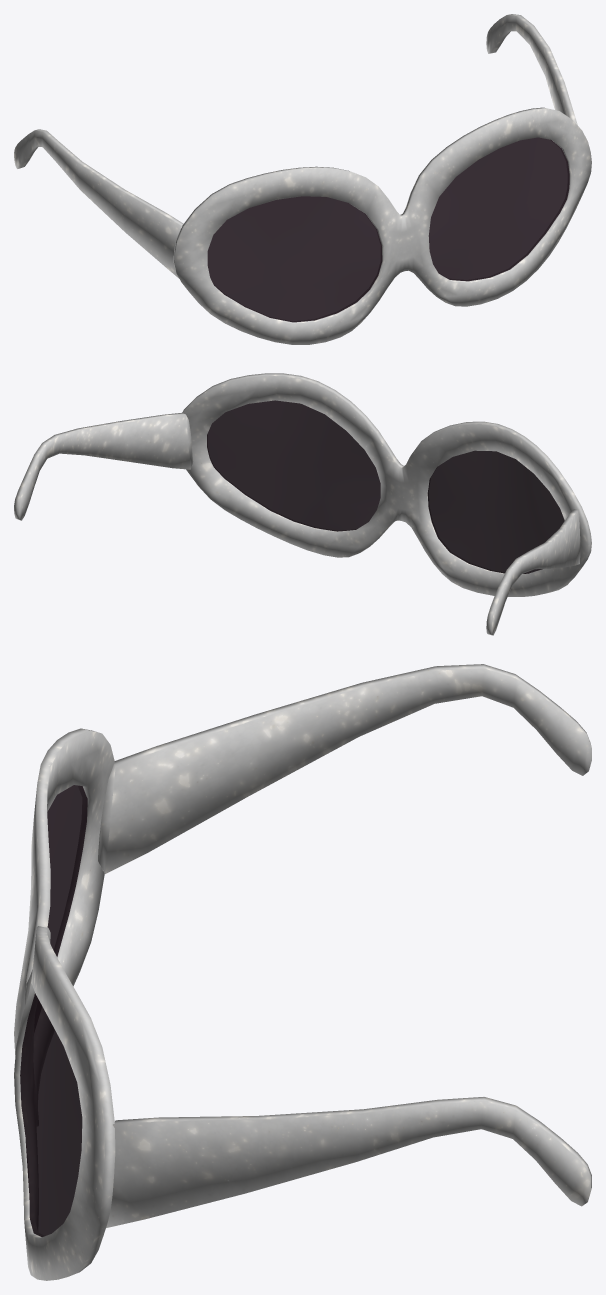
The model's file is Cobain.glb.
3 renders of one model, top to bottom at view 1: azimuth 30°, elevation 25°; view 2: azimuth 150°, elevation 25°; view 3: azimuth 270°, elevation 25°, orthographic. The views are drawn at different scales.
Visible parts, largest first — view 1: Cobain; view 2: Cobain; view 3: Cobain.
Part boxes in pixels (<box>): Cobain: <box>14,14,591,344</box>; Cobain: <box>14,373,591,635</box>; Cobain: <box>14,664,591,1280</box>.
Bounding box in the file's own units: 0.9863 × 0.3445 × 0.5497.
2 materials, 2 textured.
